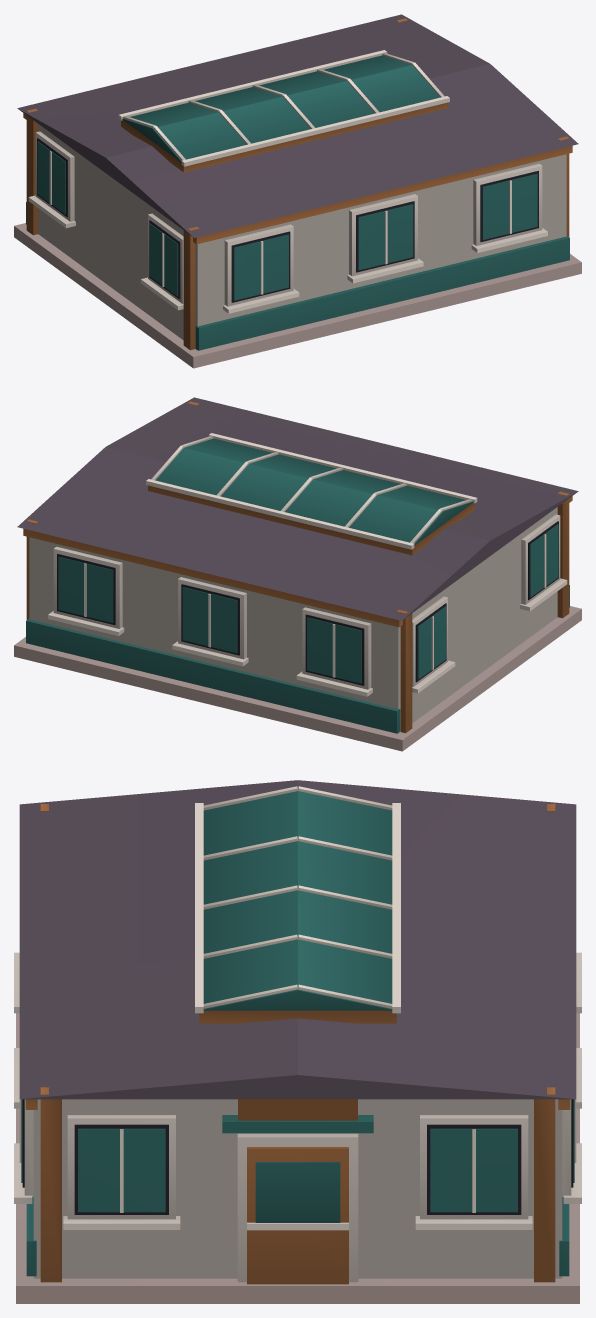
File: bld.reptile-house.lod2.glb
3 renders of one model, top to bottom at view 1: azimuth 30°, elevation 25°; view 2: azimuth 150°, elevation 25°; view 3: azimuth 270°, elevation 25°, orthographic. The views are drawn at different scales.
Visible parts, largest first — view 1: body, roof; view 2: body, roof; view 3: body, roof.
Boxes of the visible parts, x1=… form: body: x1=14, y1=18, x2=581, y2=368; roof: x1=17, y1=14, x2=578, y2=237; body: x1=14, y1=401, x2=581, y2=751; roof: x1=17, y1=397, x2=578, y2=620; body: x1=14, y1=786, x2=581, y2=1303; roof: x1=19, y1=780, x2=576, y2=1099.
Bounding box in the file's own units: 10.02 × 4.04 × 8.06.
